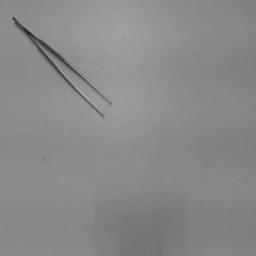Gillies Toothed Dissector: (9, 6, 117, 124)
